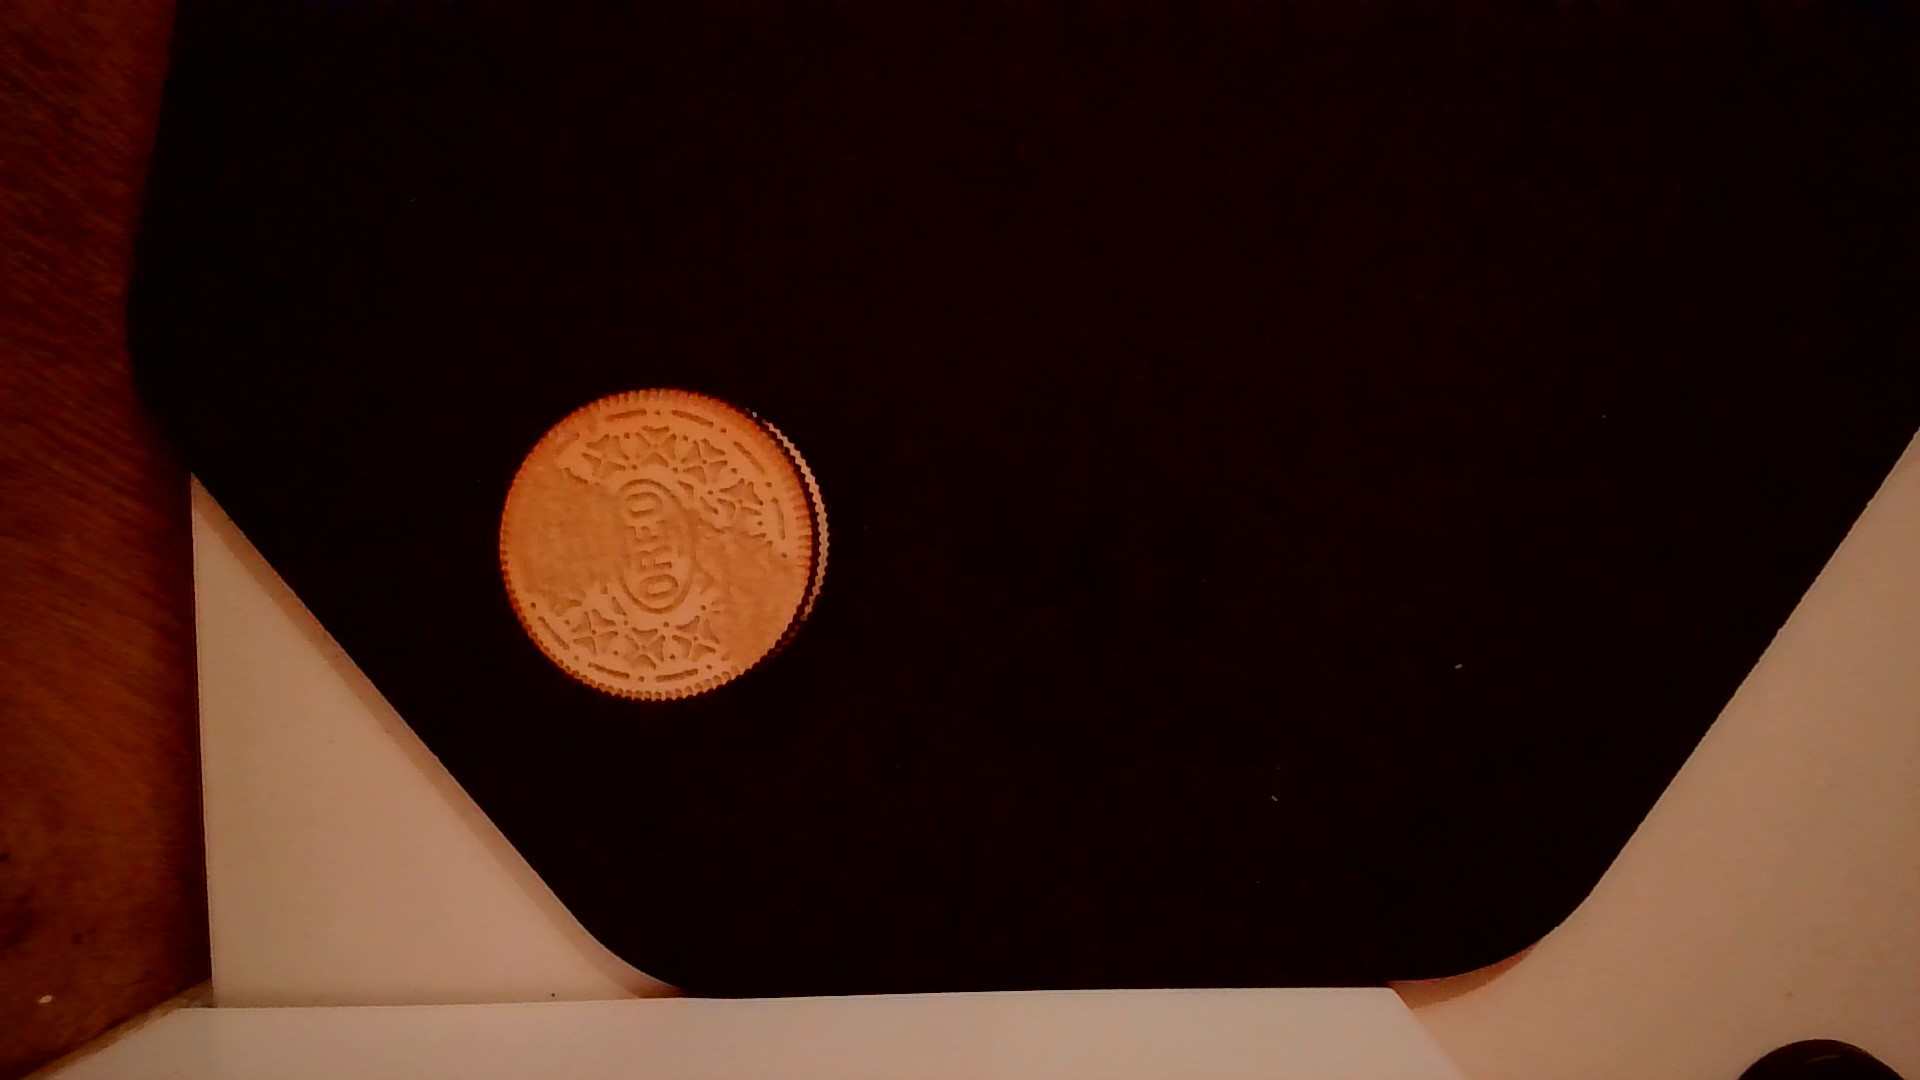Effacé: (501, 454, 630, 611), (708, 534, 800, 665)
Oréo: (495, 382, 833, 704)
